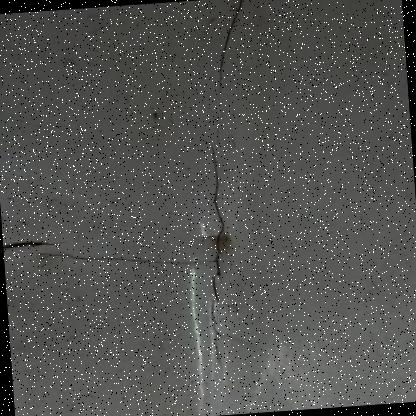Crack: (35, 0, 322, 400), (2, 231, 60, 265)
